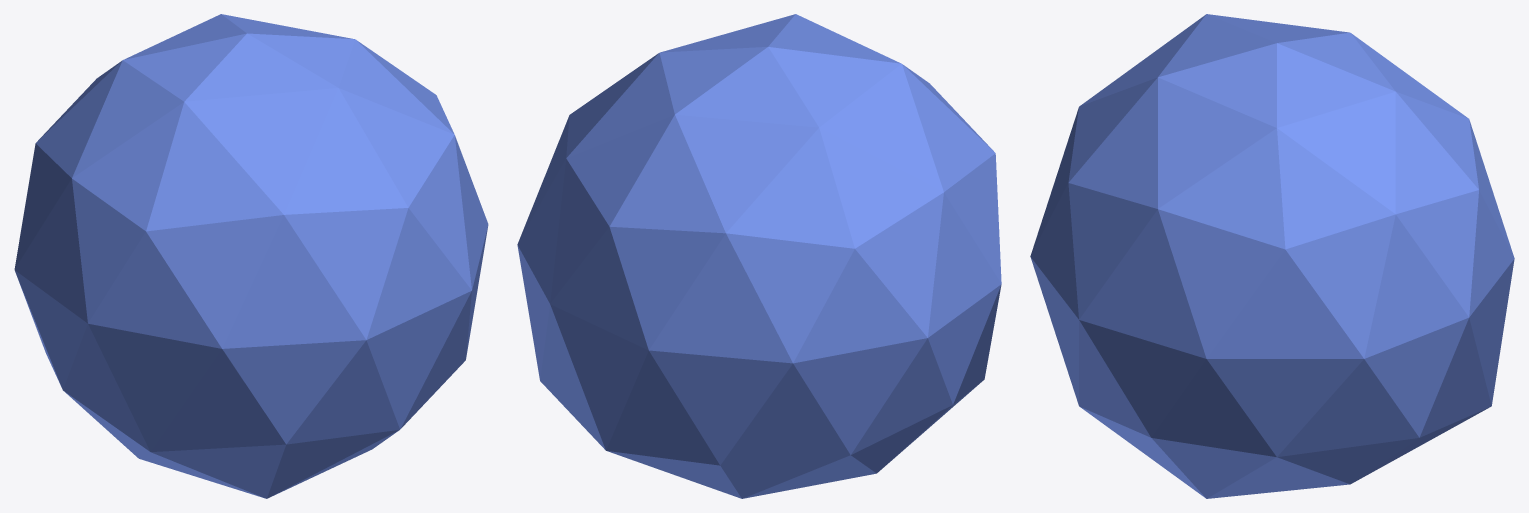
The model's file is thing.glb.
3 views of the same model, side by side, from view 1: azimuth 30°, elevation 25°; view 2: azimuth 150°, elevation 25°; view 3: azimuth 270°, elevation 25° (orthographic).
Parts seen in each view (by area): view 1: Icosphere; view 2: Icosphere; view 3: Icosphere.
Part boxes in pixels (x1=…): Icosphere: x1=14, y1=14, x2=488, y2=498; Icosphere: x1=517, y1=14, x2=1001, y2=498; Icosphere: x1=1030, y1=14, x2=1514, y2=498.
Size of the model in its own units: 1.95 by 2 by 2.04.
